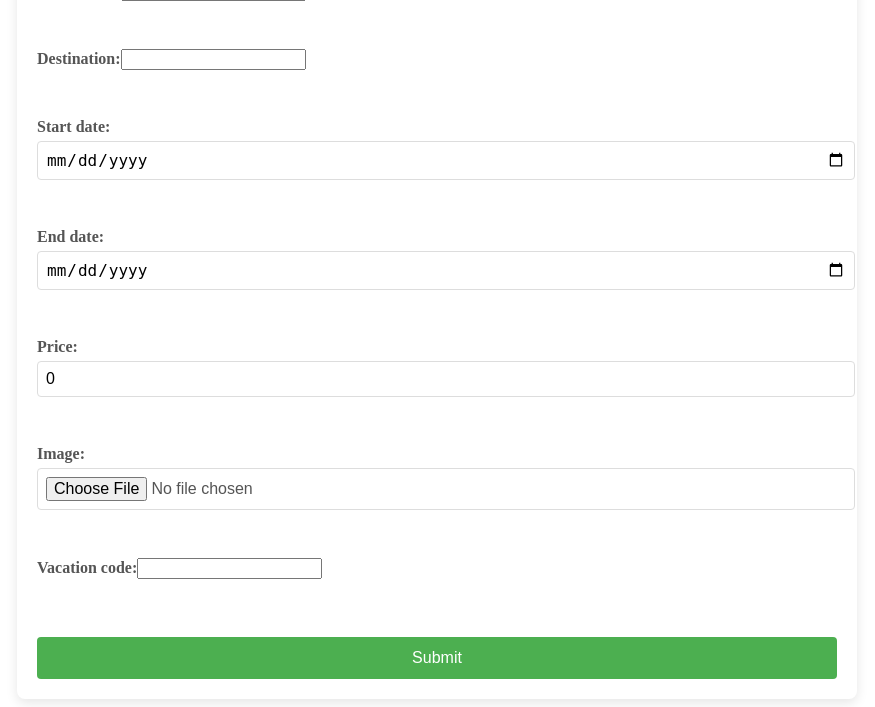
Test: EditVacation Component › displays validation errors for invalid inputs
The image size is (875, 707).
(page scrolled)
Click the button "Submit". click: {"x": 437, "y": 658}
box: [37,637,837,679]
(page scrolled)
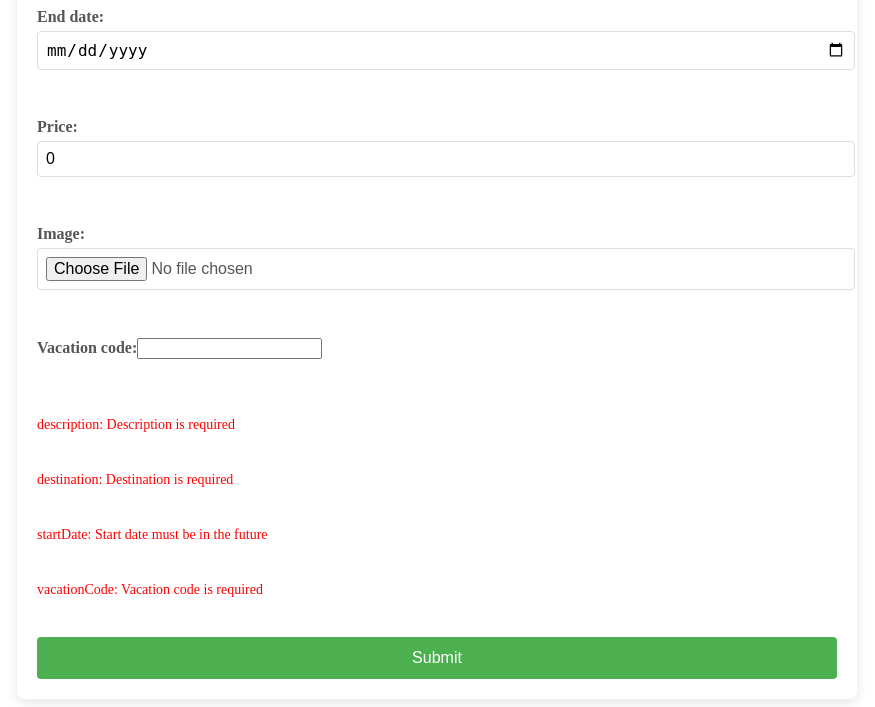
Result: the text "description: Description is required" is shown at [37,417,235,432]
Result: the text "destination: Destination is required" is shown at [37,472,233,487]
Result: the text "startDate: Start date must be in the future" is shown at [37,527,268,542]
